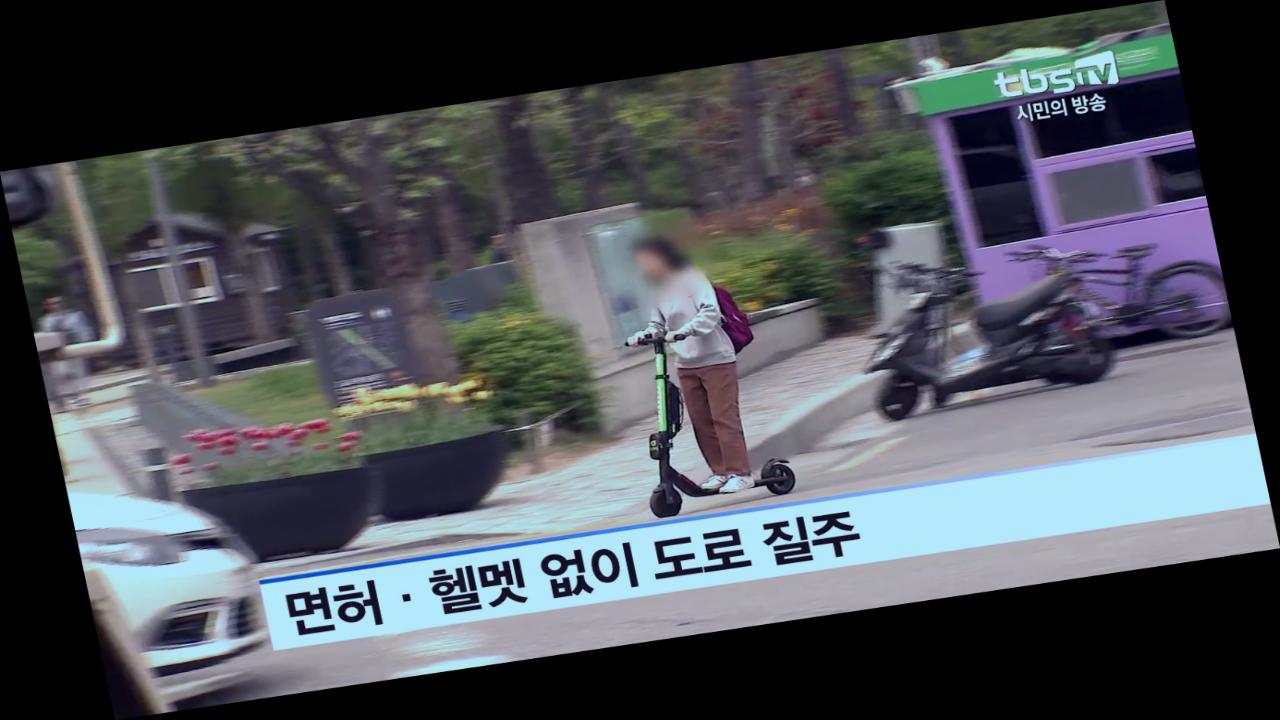nonhelmet: (589, 221, 808, 522)
